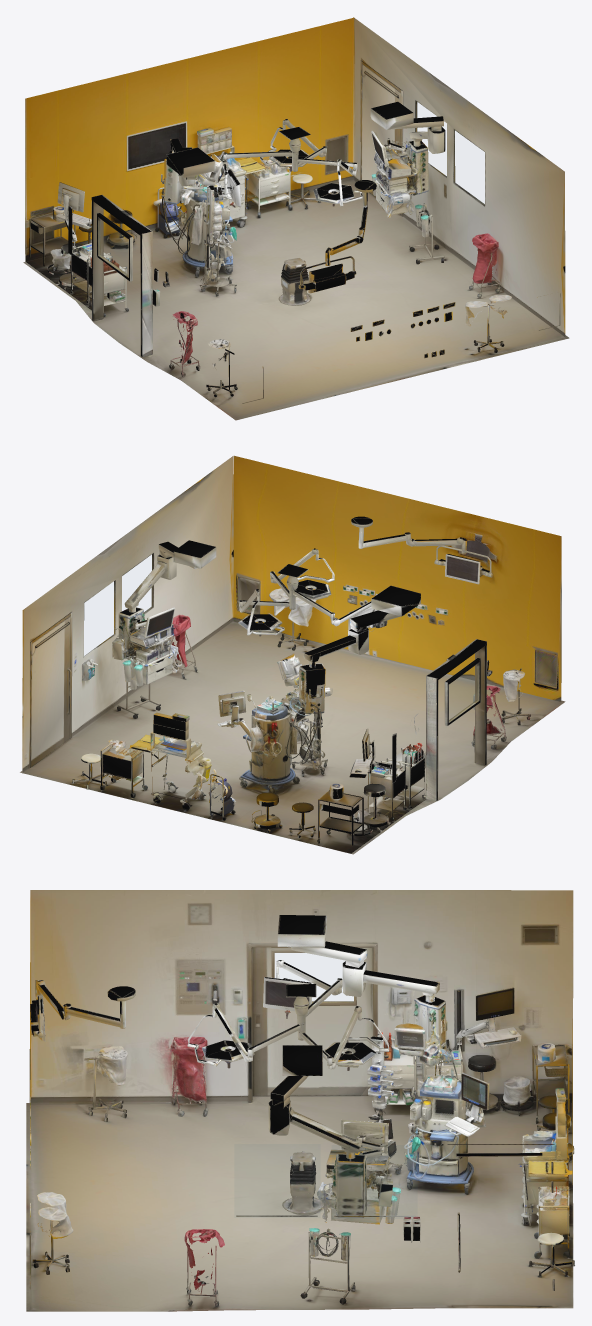
The model's file is operating_room.glb.
3 renders of one model, top to bottom at view 1: azimuth 30°, elevation 25°; view 2: azimuth 150°, elevation 25°; view 3: azimuth 270°, elevation 25°, orthographic. The views are drawn at different scales.
Visible parts, largest first — view 1: OP_Mitte_Mitte_OP_Tex2_0, OP_Mitte_Mitte_OP_Tex1_0, OP_Mitte_Mitte_OP_Tex3_0, OP_Mitte_Mitte_OP_Tex4_0.001, OP_Mitte_Mitte_OP_Tex4_0; view 2: OP_Mitte_Mitte_OP_Tex1_0, OP_Mitte_Mitte_OP_Tex2_0, OP_Mitte_Mitte_OP_Tex4_0, OP_Mitte_Mitte_OP_Tex3_0, OP_Mitte_Mitte_OP_Tex4_0.001; view 3: OP_Mitte_Mitte_OP_Tex2_0, OP_Mitte_Mitte_OP_Tex4_0, OP_Mitte_Mitte_OP_Tex3_0, OP_Mitte_Mitte_OP_Tex1_0, OP_Mitte_Mitte_OP_Tex4_0.001.
Boxes of the visible parts, <box> form: OP_Mitte_Mitte_OP_Tex2_0: <box>23,17,569,420</box>; OP_Mitte_Mitte_OP_Tex1_0: <box>30,17,565,403</box>; OP_Mitte_Mitte_OP_Tex3_0: <box>29,123,507,393</box>; OP_Mitte_Mitte_OP_Tex4_0.001: <box>32,119,504,372</box>; OP_Mitte_Mitte_OP_Tex4_0: <box>81,60,504,397</box>; OP_Mitte_Mitte_OP_Tex1_0: <box>22,455,561,836</box>; OP_Mitte_Mitte_OP_Tex2_0: <box>20,540,565,854</box>; OP_Mitte_Mitte_OP_Tex4_0: <box>30,518,530,838</box>; OP_Mitte_Mitte_OP_Tex3_0: <box>30,516,528,845</box>; OP_Mitte_Mitte_OP_Tex4_0.001: <box>122,548,505,843</box>; OP_Mitte_Mitte_OP_Tex2_0: <box>26,944,573,1311</box>; OP_Mitte_Mitte_OP_Tex4_0: <box>30,890,574,1307</box>; OP_Mitte_Mitte_OP_Tex3_0: <box>30,941,574,1294</box>; OP_Mitte_Mitte_OP_Tex1_0: <box>29,897,569,1297</box>; OP_Mitte_Mitte_OP_Tex4_0.001: <box>30,915,572,1234</box>.
Size of the model in its own units: 5.99 by 2.78 by 6.53.
5 materials, 4 textured.
